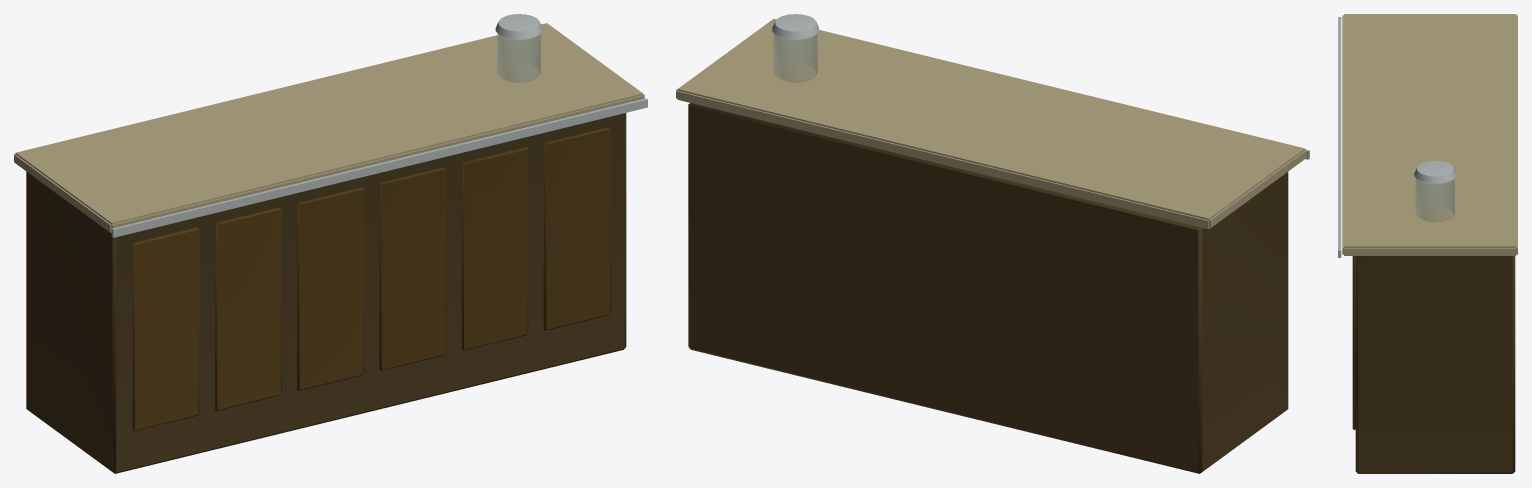
Rendered from rest-cashier-counter.glb.
3 views of the same model, side by side, from view 1: azimuth 30°, elevation 25°; view 2: azimuth 150°, elevation 25°; view 3: azimuth 270°, elevation 25° (orthographic). The views are drawn at different scales.
Visible parts, largest first — view 1: body__paint, top__plastic, trim__chrome, jar__glass; view 2: body__paint, top__plastic, jar__glass, trim__chrome; view 3: top__plastic, body__paint, trim__chrome, jar__glass.
Boxes of the visible parts, bbox=[...] form: body__paint: bbox=[26, 113, 626, 473]; top__plastic: bbox=[14, 23, 644, 233]; trim__chrome: bbox=[111, 14, 647, 237]; jar__glass: bbox=[497, 33, 540, 82]; body__paint: bbox=[688, 103, 1288, 473]; top__plastic: bbox=[676, 19, 1306, 229]; jar__glass: bbox=[773, 33, 817, 82]; trim__chrome: bbox=[772, 14, 1309, 159]; top__plastic: bbox=[1342, 14, 1517, 255]; body__paint: bbox=[1352, 256, 1515, 473]; trim__chrome: bbox=[1338, 17, 1456, 257]; jar__glass: bbox=[1415, 178, 1454, 221].
Size of the model in its own units: 2.08 by 1.16 by 0.676.
